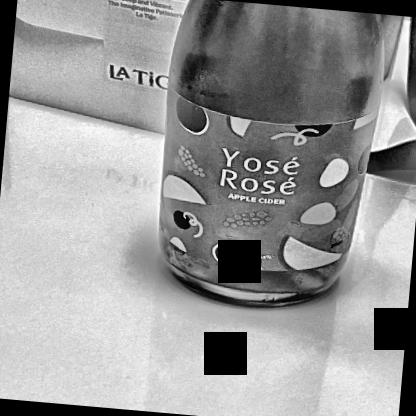yoserose: (161, 113, 358, 267)
